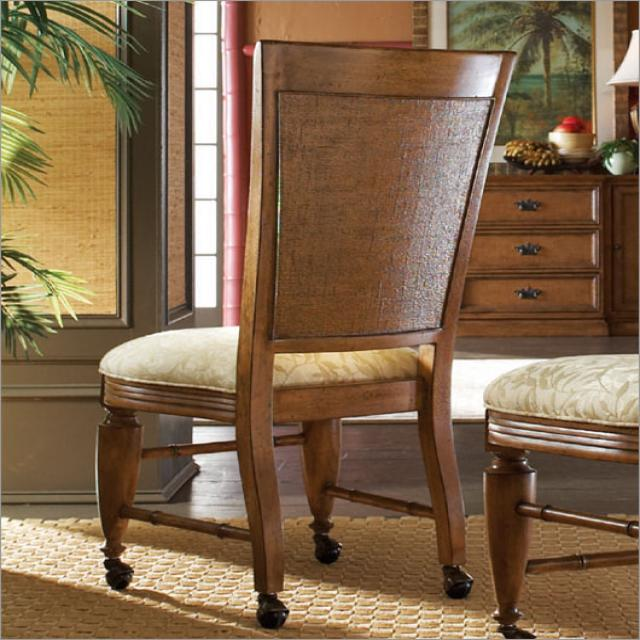chair: (92, 36, 519, 594)
